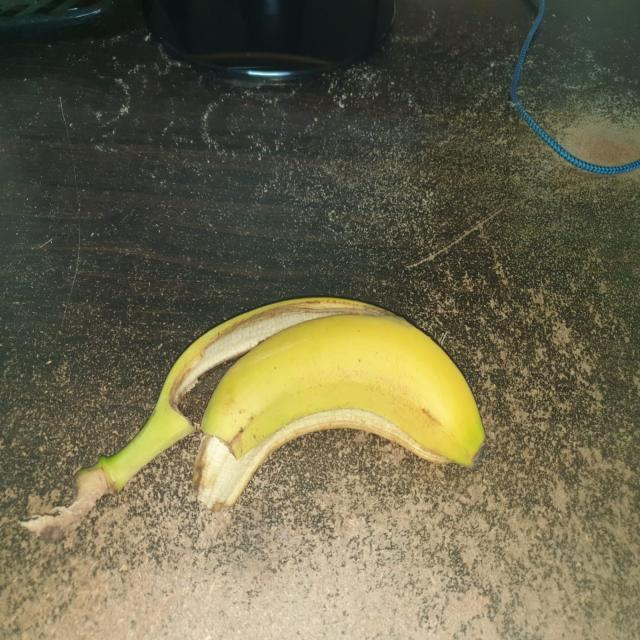banana-peel: (190, 311, 486, 512)
